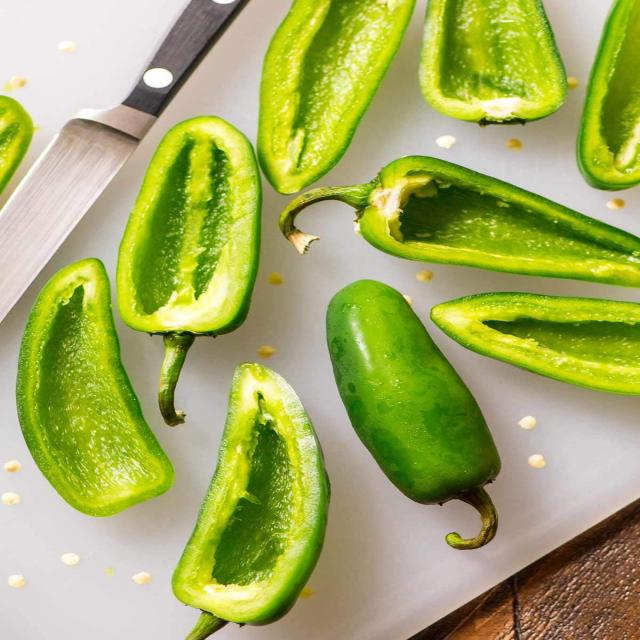aji: (34, 34, 640, 626)
